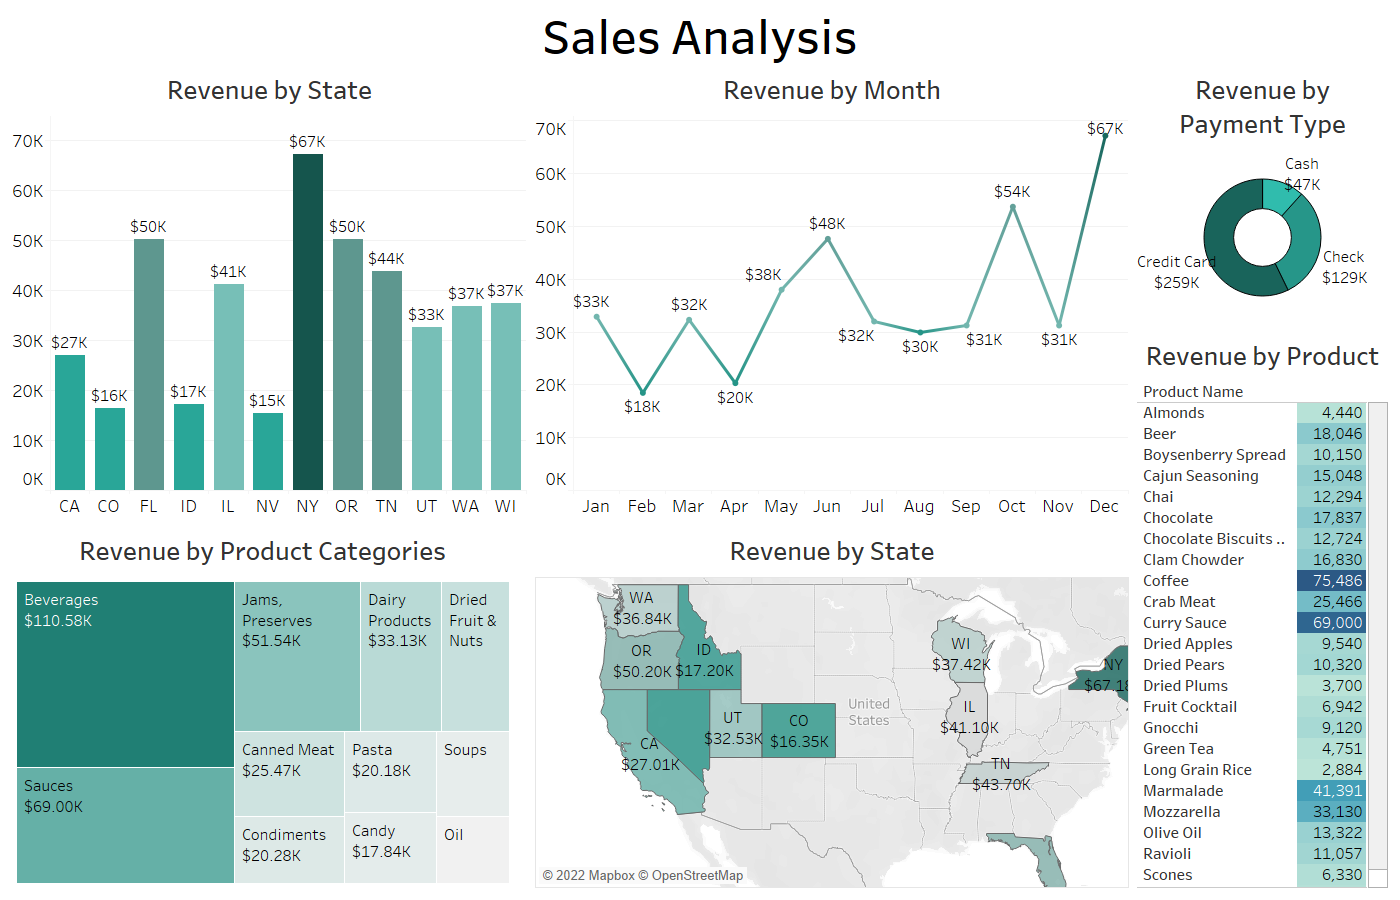

Layout of this report page (visuals, bound fields, positions):
{"tool":"tableau","page":{"name":"Dashboard 1","canvas":[1400,900],"ordinal":0},"visuals":[{"type":"text","box":[8,8,1384,54]},{"type":"worksheet","title":"Rev by State","mark":"Automatic","rows":["Revenue"],"cols":["Ship State"],"box":[8,62,498.3,461]},{"type":"worksheet","title":"Revenue by Month","mark":"Automatic","rows":["Revenue"],"cols":["Shipped Date"],"box":[506.3,62,573.7,461]},{"type":"worksheet","title":"Revenue by Payment Type","mark":"Pie","rows":["Calculation_1268607775229984769","Calculation_1268607775229992963"],"box":[1080,62,312,297]},{"type":"worksheet","title":"Revenue by Product name","mark":"Square","rows":["Product Name"],"box":[1080,359,312,533]},{"type":"worksheet","title":"Tree","mark":"Automatic","box":[8,523,498.3,369]},{"type":"worksheet","title":"map","mark":"Automatic","box":[506.3,523,573.7,369]}]}

Visuals, with their boxes in screenshot pixels (x1, y1, x2, y2), scaled from the page's 1400x900 canvas onto the 1400x900 screenshot:
text: [8, 8, 1392, 62]
"Rev by State" worksheet: [8, 62, 506, 523]
"Revenue by Month" worksheet: [506, 62, 1080, 523]
"Revenue by Payment Type" worksheet (Pie marks): [1080, 62, 1392, 359]
"Revenue by Product name" worksheet (Square marks): [1080, 359, 1392, 892]
"Tree" worksheet: [8, 523, 506, 892]
"map" worksheet: [506, 523, 1080, 892]
